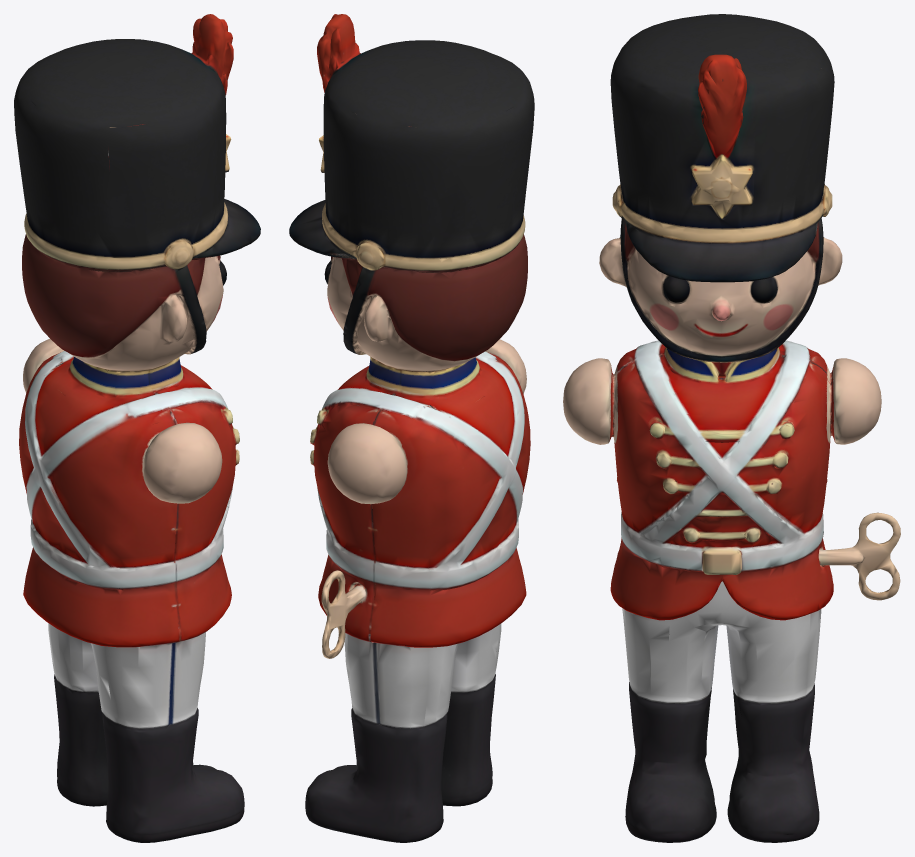
The picture shows the model from 3 angles, left to right: view 1: azimuth 30°, elevation 25°; view 2: azimuth 150°, elevation 25°; view 3: azimuth 270°, elevation 25°; orthographic projection. The views are drawn at different scales.
Visible parts, largest first — view 1: repaired; view 2: repaired; view 3: repaired.
Part boxes in pixels (x1,y1,x2,y2): repaired: (14, 14, 260, 842); repaired: (289, 14, 534, 842); repaired: (563, 14, 900, 842).
Bounding box in the file's own units: 0.2972 × 0.9994 × 0.3882.
Materials: 1 (1 with a texture image).
